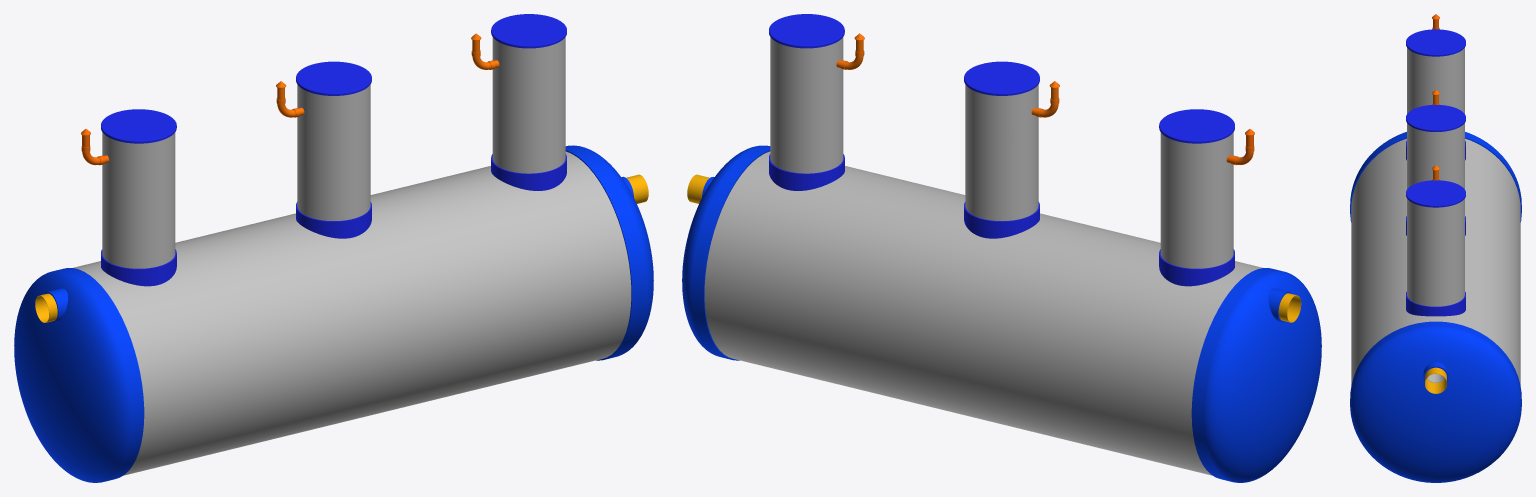
File: LOS3000-9500.glb
3 renders of one model, left to right at view 1: azimuth 30°, elevation 25°; view 2: azimuth 150°, elevation 25°; view 3: azimuth 270°, elevation 25°, orthographic. The views are drawn at different scales.
Parts seen in each view (by area): view 1: Твердое тело1 (×12); view 2: Твердое тело1 (×12); view 3: Твердое тело1 (×10), Solid1.
Part boxes in pixels (x1=…): Твердое тело1 (×12): x1=14, y1=14, x2=653, y2=482; Твердое тело1 (×12): x1=682, y1=14, x2=1321, y2=482; Твердое тело1 (×10): x1=1350, y1=29, x2=1521, y2=482; Solid1: x1=1425, y1=367, x2=1446, y2=393.
Size of the model in its own units: 9.83 by 5.4 by 3.08.
